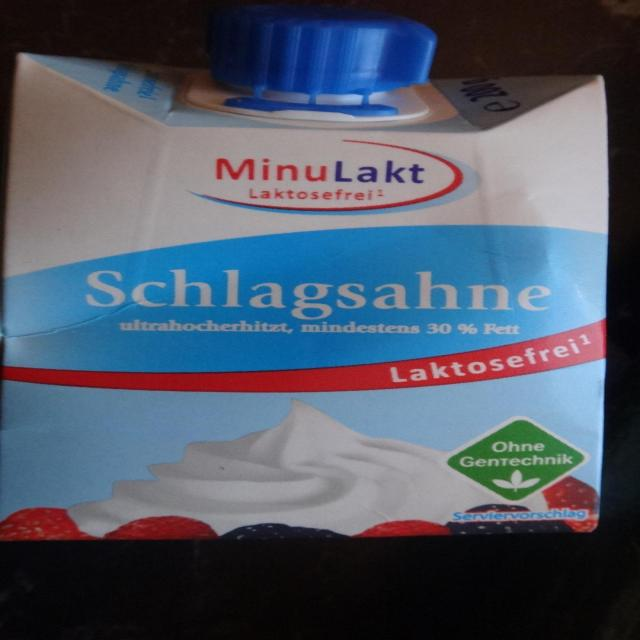Cream: (2, 5, 606, 540)
